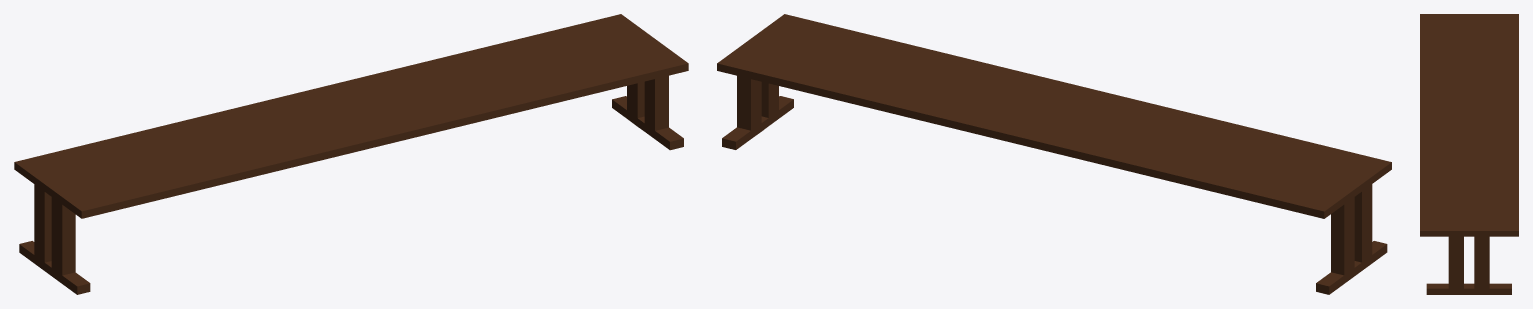
The model's file is table2.fbx.
The picture shows the model from 3 angles, left to right: view 1: azimuth 30°, elevation 25°; view 2: azimuth 150°, elevation 25°; view 3: azimuth 270°, elevation 25°; orthographic projection. The views are drawn at different scales.
Visible parts, largest first — view 1: Cube; view 2: Cube; view 3: Cube.
Boxes of the visible parts, x1,y1,x2,y2 form: Cube: [14, 14, 688, 294]; Cube: [717, 14, 1391, 294]; Cube: [1420, 14, 1518, 294].
Size of the model in its own units: 1711 by 235 by 330.
